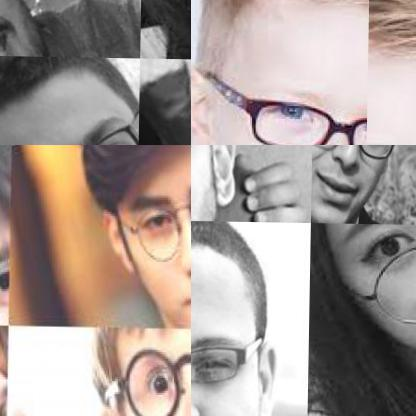Glasses: (104, 147, 190, 286), (83, 326, 190, 415)
glasses: (0, 83, 139, 144), (191, 307, 277, 401), (352, 223, 415, 338), (233, 96, 367, 144), (311, 145, 415, 162)
